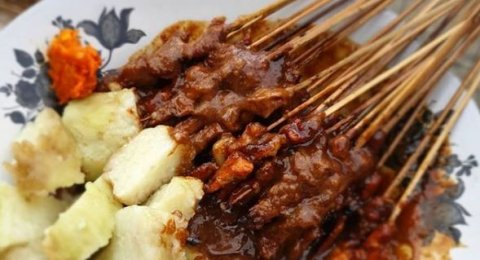sate: (34, 14, 449, 260)
